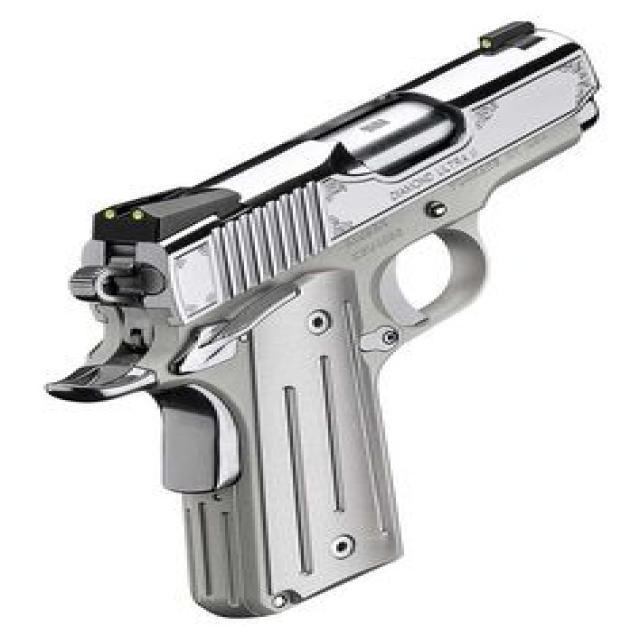semi automatic: (49, 18, 610, 622)
